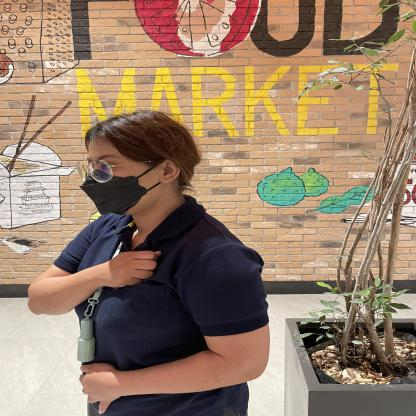Sadness: (12, 236, 188, 322)
